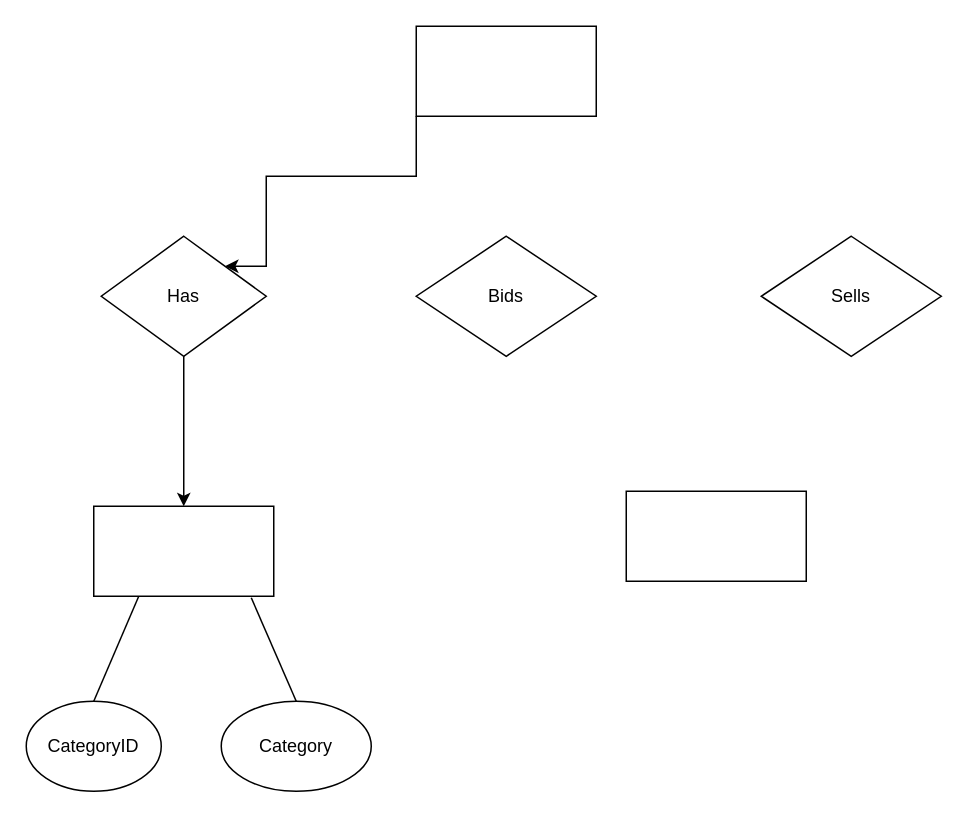
This 968x818 diagram has some shape labels left out. Here are the shapes that lost their labels. From the top down, the box of each, then its label:
(415, 25, 596, 116): Items
(92, 505, 274, 596): Categories
(625, 490, 806, 581): users
